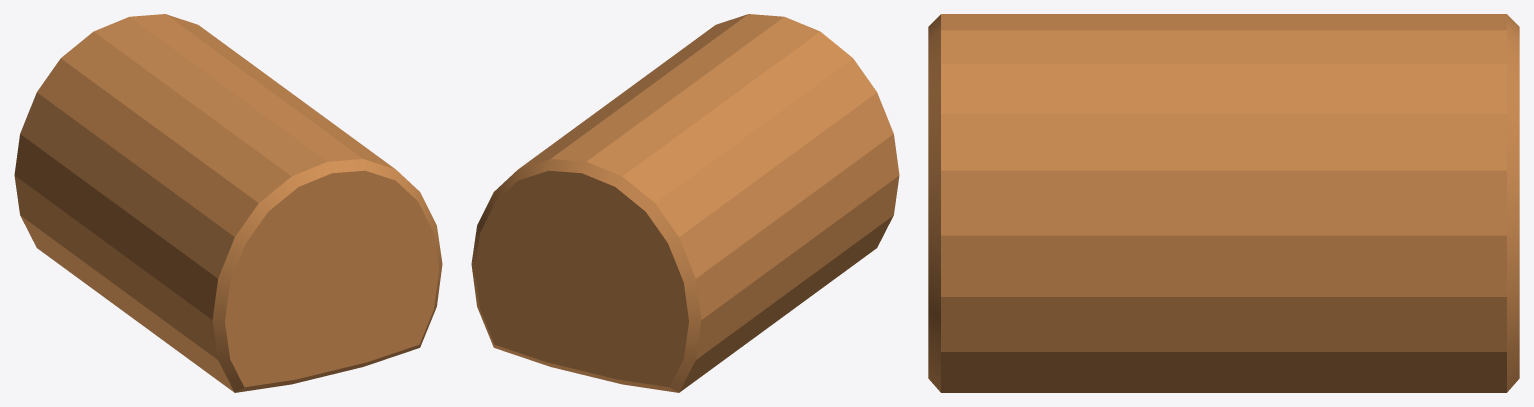
3 views of the same model, side by side, from view 1: azimuth 30°, elevation 25°; view 2: azimuth 150°, elevation 25°; view 3: azimuth 270°, elevation 25° (orthographic). The views are drawn at different scales.
Visible parts, largest first — view 1: log; view 2: log; view 3: log.
Part boxes in pixels (x1,y1,x2,y2): log: (14, 14, 442, 392); log: (471, 14, 899, 392); log: (928, 14, 1519, 392).
Size of the model in its own units: 0.0769 by 0.0684 by 0.12.
